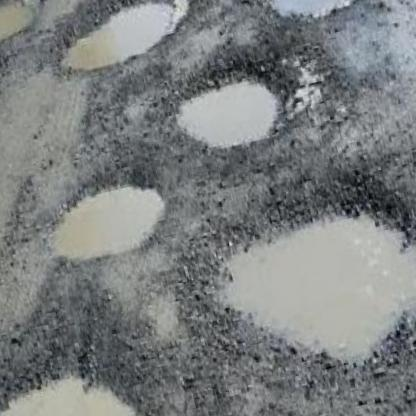pothole: (184, 163, 416, 397), (41, 166, 182, 270), (166, 50, 294, 160), (41, 0, 209, 81), (0, 340, 158, 416), (244, 0, 413, 33), (0, 0, 46, 56)
